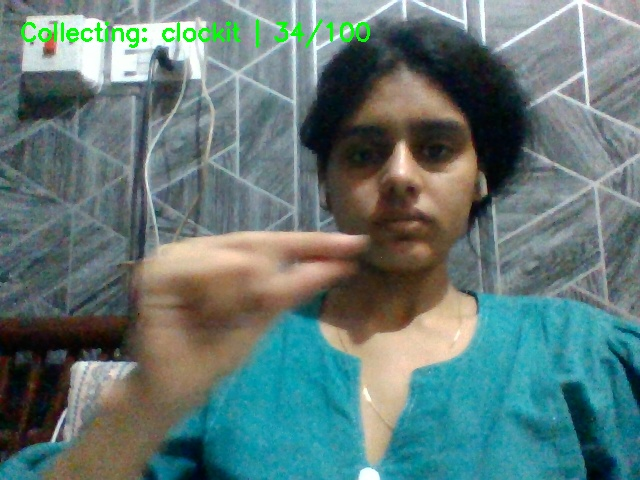clockit: (119, 223, 381, 393)
